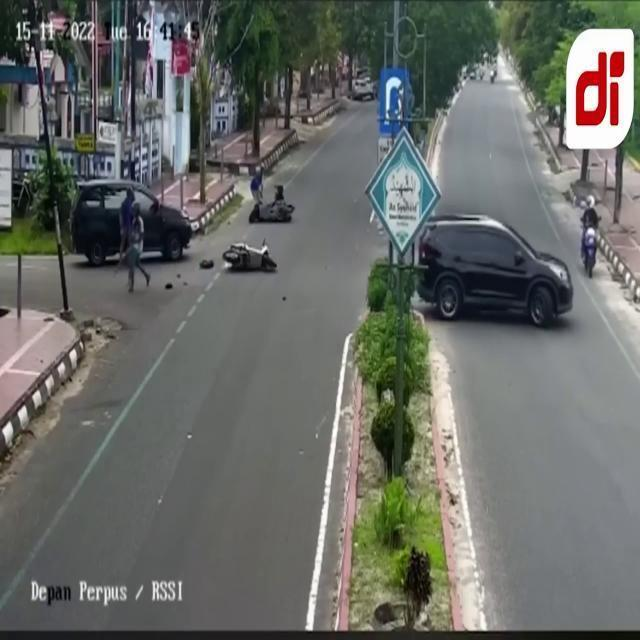accident: (199, 186, 297, 274)
non-accident: (410, 196, 600, 326)
